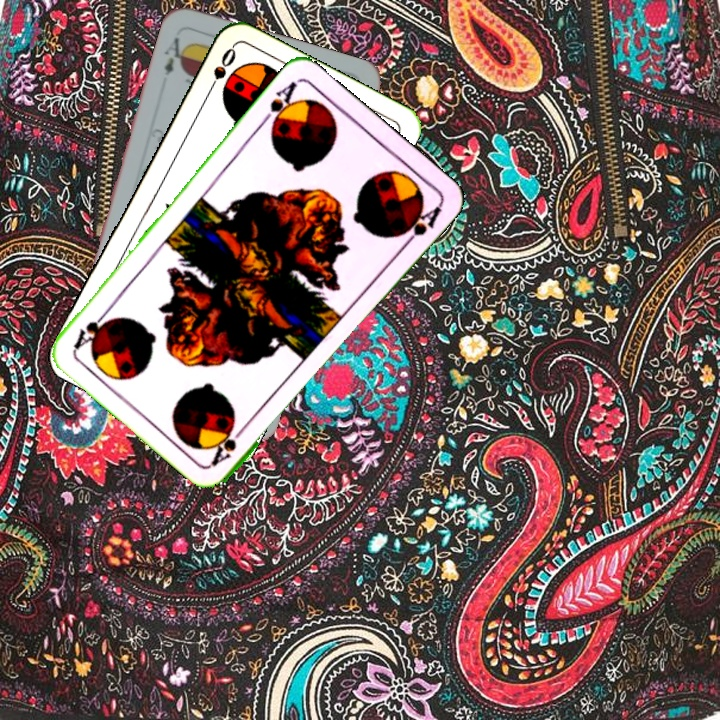EA: (160, 33, 187, 78)
SA: (257, 77, 300, 133), (207, 419, 252, 468)
SO: (202, 43, 239, 98)
